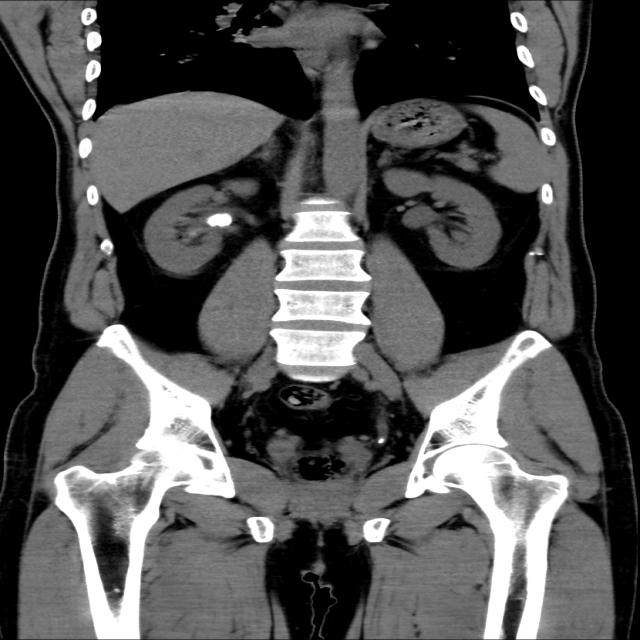kidneystone: (205, 212, 233, 228)
